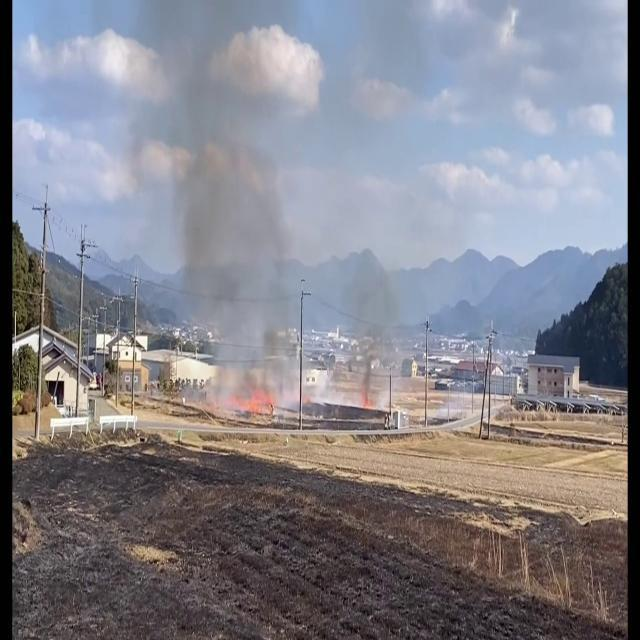Smoke: (161, 104, 415, 406)
